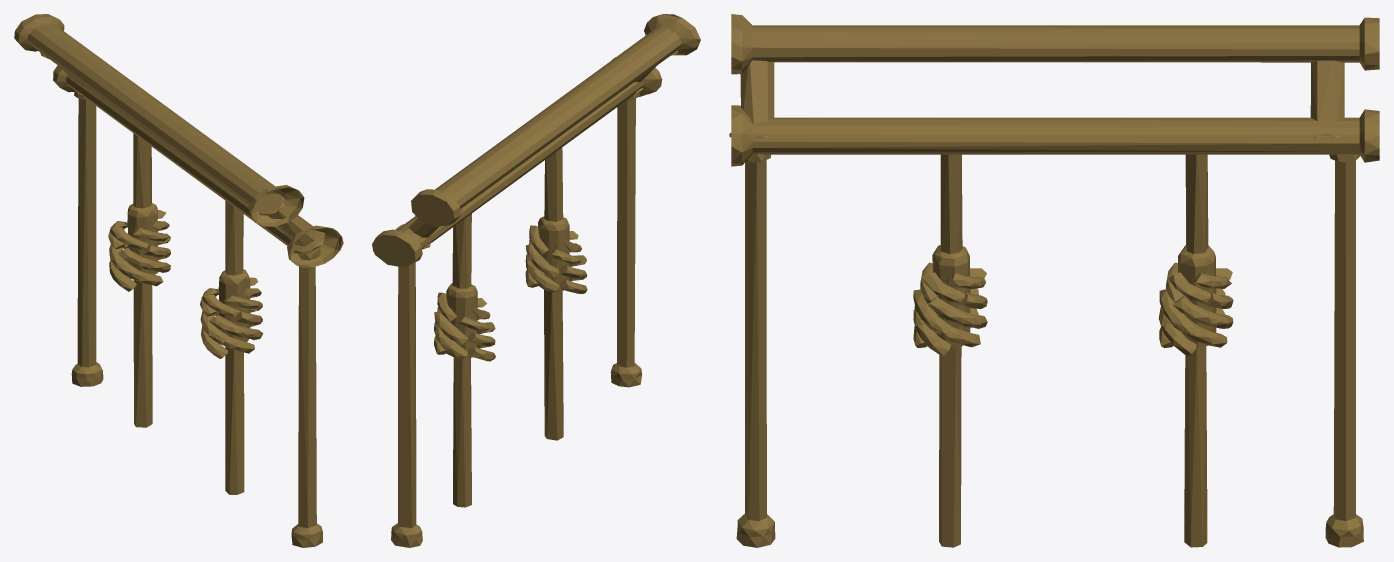
File: railing.glb
3 renders of one model, left to right at view 1: azimuth 30°, elevation 25°; view 2: azimuth 150°, elevation 25°; view 3: azimuth 270°, elevation 25°, orthographic. The views are drawn at different scales.
Parts seen in each view (by area): view 1: Cylinder.001; view 2: Cylinder.001; view 3: Cylinder.001.
Part boxes in pixels (x1,y1,x2,y2): Cylinder.001: (14,14,343,547); Cylinder.001: (372,14,700,547); Cylinder.001: (729,14,1379,547).
Bounding box in the file's own units: 0.318 × 1.22 × 1.44.
